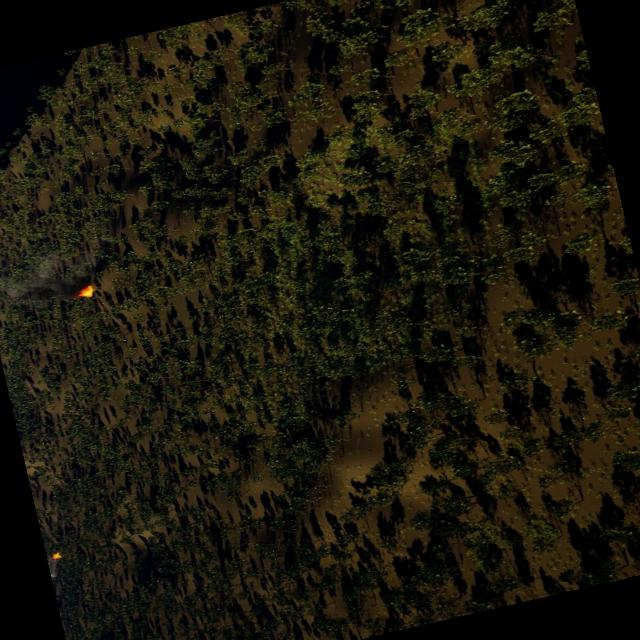fire: (78, 285, 96, 298), (50, 550, 61, 560)
smoke: (0, 237, 91, 317), (46, 553, 62, 579)
